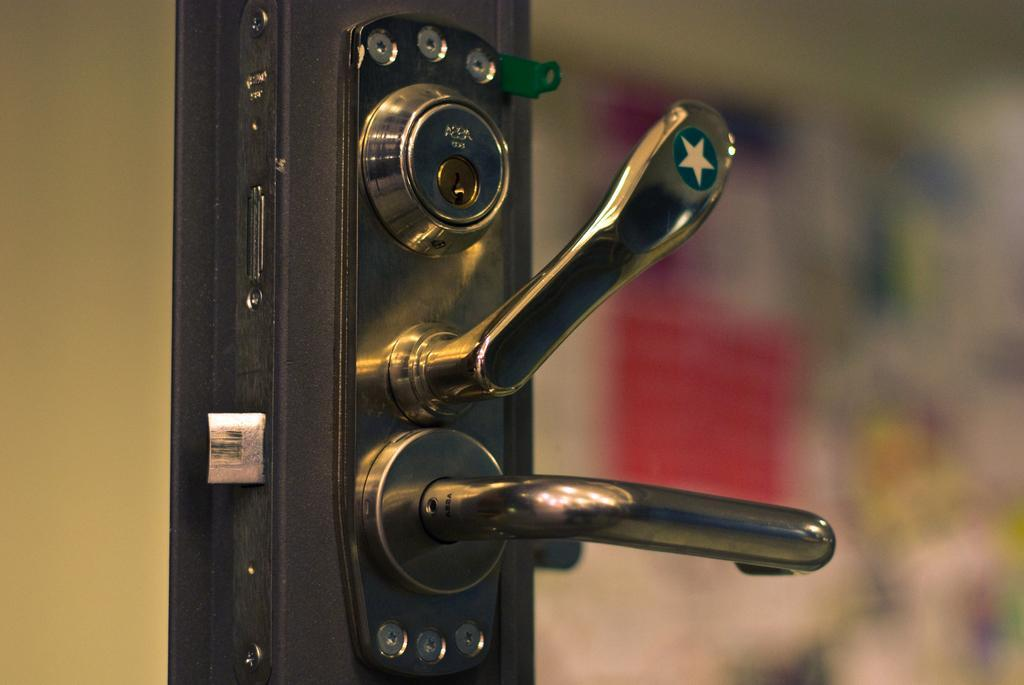handle: (357, 80, 744, 412), (348, 434, 856, 601)
